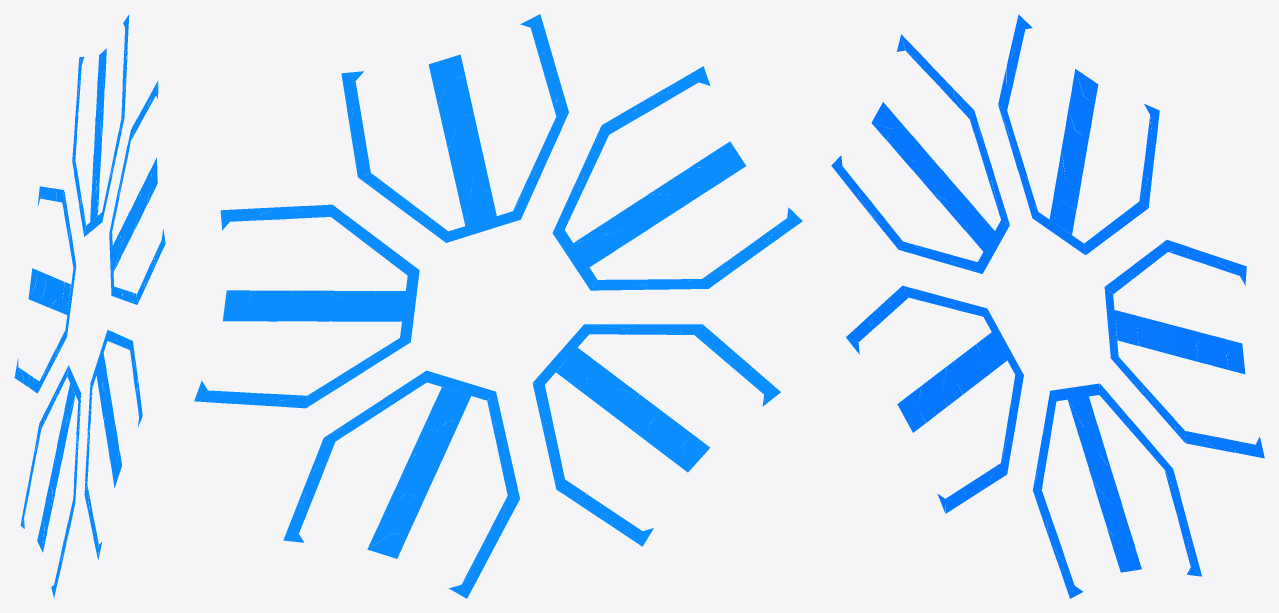
The model's file is POWER_LEGGING5_FACE2.glb.
The picture shows the model from 3 angles, left to right: view 1: azimuth 30°, elevation 25°; view 2: azimuth 150°, elevation 25°; view 3: azimuth 270°, elevation 25°; orthographic projection. The views are drawn at different scales.
Visible parts, largest first — view 1: TARGET_2, TARGET_5, TARGET_3, TARGET_4, TARGET_1; view 2: TARGET_3, TARGET_1, TARGET_2, TARGET_4, TARGET_5; view 3: TARGET_4, TARGET_3, TARGET_2, TARGET_5, TARGET_1.
Part boxes in pixels (x1=…): TARGET_2: x1=72, y1=14, x2=129, y2=236; TARGET_5: x1=20, y1=365, x2=81, y2=598; TARGET_3: x1=109, y1=81, x2=165, y2=304; TARGET_4: x1=84, y1=329, x2=142, y2=560; TARGET_1: x1=14, y1=186, x2=76, y2=393; TARGET_3: x1=194, y1=204, x2=419, y2=408; TARGET_1: x1=552, y1=66, x2=802, y2=290; TARGET_2: x1=341, y1=14, x2=568, y2=242; TARGET_4: x1=283, y1=370, x2=519, y2=598; TARGET_5: x1=532, y1=324, x2=780, y2=546; TARGET_4: x1=1032, y1=383, x2=1201, y2=598; TARGET_3: x1=1104, y1=240, x2=1264, y2=458; TARGET_2: x1=998, y1=14, x2=1159, y2=255; TARGET_5: x1=846, y1=285, x2=1023, y2=513; TARGET_1: x1=831, y1=34, x2=1009, y2=273.
Size of the model in its own units: 0.7909 by 1.13 by 0.7885.
